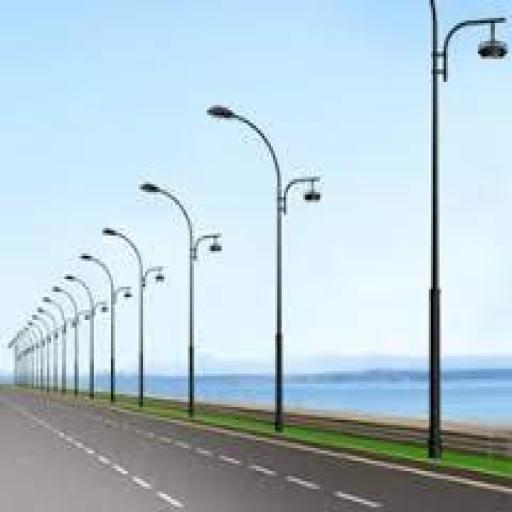Light-pole: (416, 2, 508, 463), (208, 95, 330, 441), (139, 166, 224, 422), (98, 214, 176, 404), (76, 240, 137, 400), (59, 262, 104, 386)
